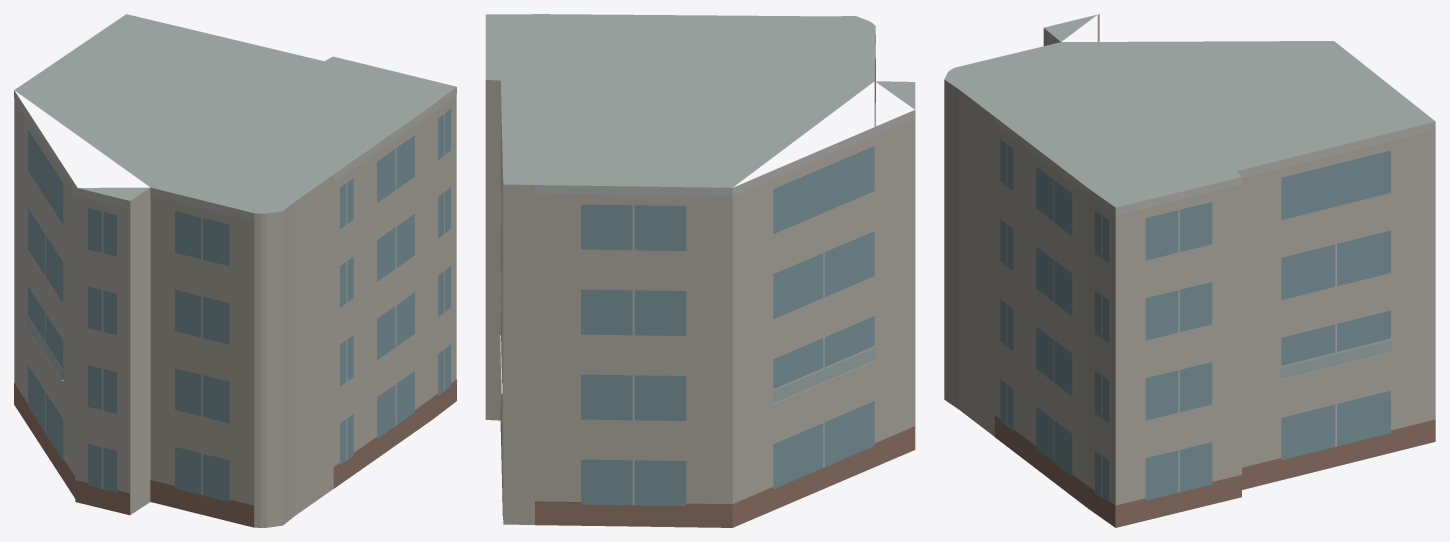
Rendered from survey-upis-32941004.glb.
3 views of the same model, side by side, from view 1: azimuth 30°, elevation 25°; view 2: azimuth 150°, elevation 25°; view 3: azimuth 270°, elevation 25° (orthographic). The views are drawn at different scales.
Visible parts, largest first — view 1: survey-upis-32941004.tmp; view 2: survey-upis-32941004.tmp; view 3: survey-upis-32941004.tmp.
Part boxes in pixels (<box>): survey-upis-32941004.tmp: <box>14,14,456,527</box>; survey-upis-32941004.tmp: <box>485,14,915,527</box>; survey-upis-32941004.tmp: <box>944,14,1435,527</box>.
Bounding box in the file's own units: 12.46 × 9.6 × 13.35.
